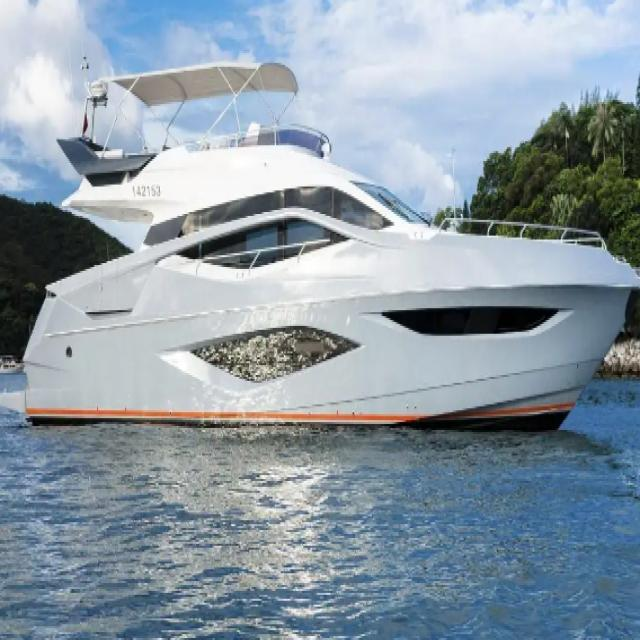houseboat: (18, 52, 634, 439)
